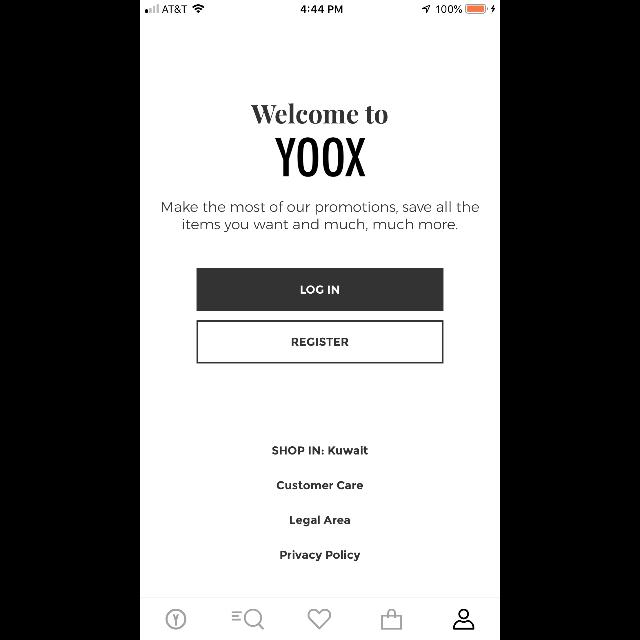icon: (232, 608, 264, 630), (308, 608, 332, 630), (382, 608, 402, 630), (454, 608, 474, 630)
image: (166, 608, 187, 630)
text: (162, 202, 478, 232), (275, 137, 365, 177), (251, 104, 387, 125), (281, 550, 361, 562), (272, 446, 368, 454), (277, 481, 363, 489), (290, 516, 350, 526)
textbutton: (196, 268, 444, 312), (196, 320, 444, 364)
uppertaskbar: (140, 0, 500, 14)
